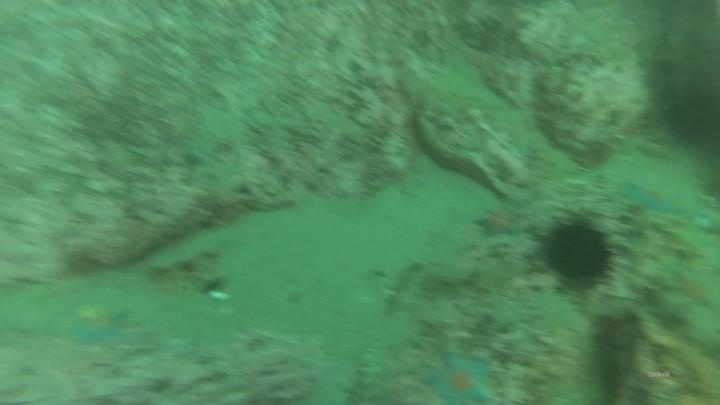echinus: (535, 213, 620, 292)
holothurian: (415, 258, 523, 333)
starfish: (421, 348, 497, 405), (618, 178, 706, 225), (64, 298, 133, 348), (470, 203, 527, 242)
